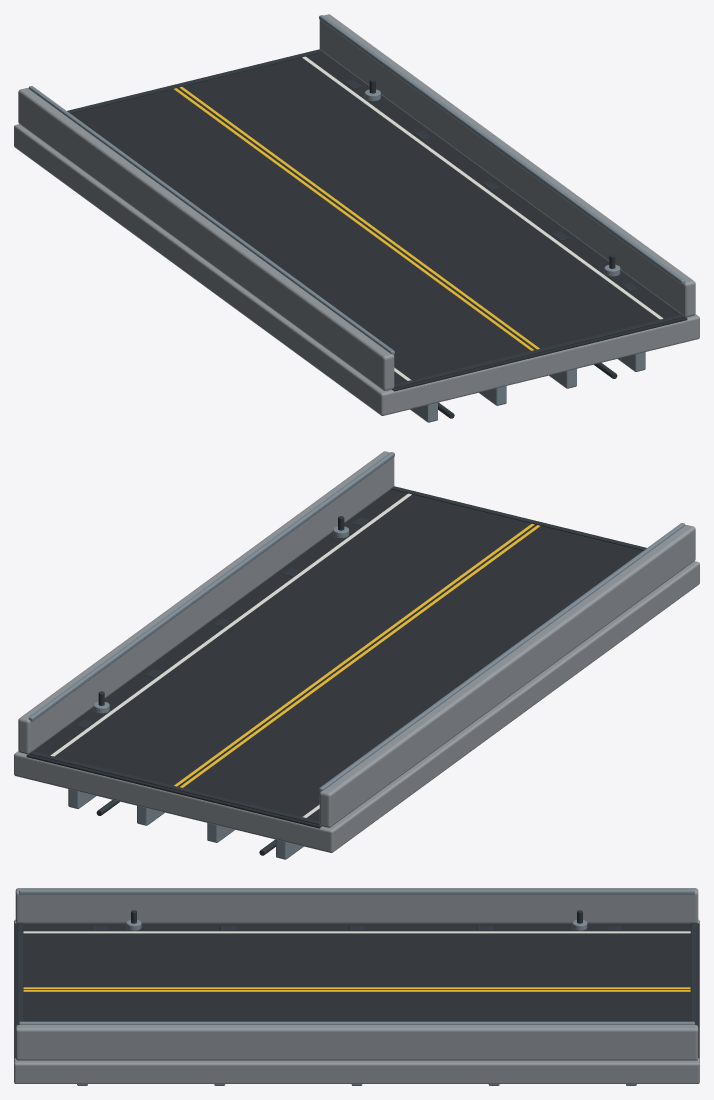
The model's file is rorng_city_bridge_span_20m.glb.
3 renders of one model, top to bottom at view 1: azimuth 30°, elevation 25°; view 2: azimuth 150°, elevation 25°; view 3: azimuth 270°, elevation 25°, orthographic. The views are drawn at different scales.
Visible parts, largest first — view 1: rorng_city_bridge_span_20m_lod0; view 2: rorng_city_bridge_span_20m_lod0; view 3: rorng_city_bridge_span_20m_lod0.
Boxes of the visible parts, x1=… form: rorng_city_bridge_span_20m_lod0: x1=14, y1=14, x2=699, y2=422; rorng_city_bridge_span_20m_lod0: x1=14, y1=451, x2=699, y2=859; rorng_city_bridge_span_20m_lod0: x1=14, y1=888, x2=699, y2=1085.
Size of what is drawn, in the model's own units: 10 by 2.6 by 20.
